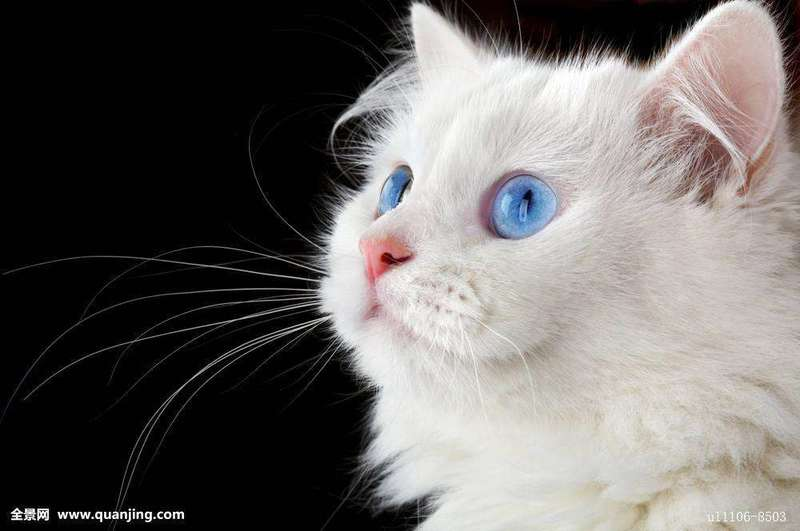cat: (250, 9, 794, 451)
